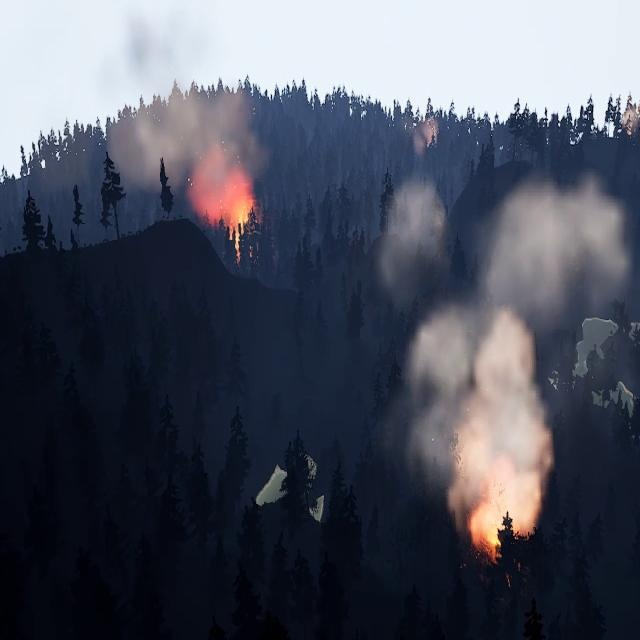fire: (466, 471, 543, 562), (196, 174, 258, 260), (625, 112, 639, 138)
smoke: (382, 172, 638, 522), (105, 2, 262, 221), (412, 111, 440, 158)
